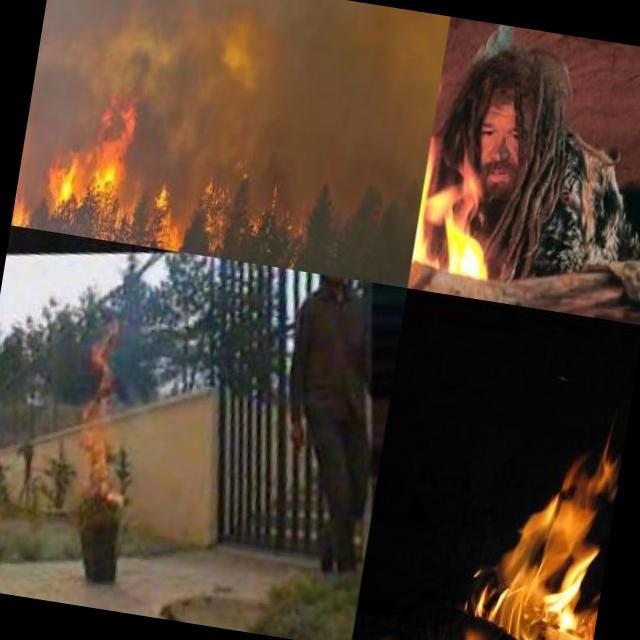fire: (435, 415, 625, 640), (408, 82, 511, 298), (56, 315, 140, 496), (44, 94, 140, 217), (120, 176, 194, 252), (11, 89, 46, 228), (184, 187, 233, 259), (350, 575, 378, 640)
smoke: (127, 0, 450, 221), (33, 0, 156, 103)
